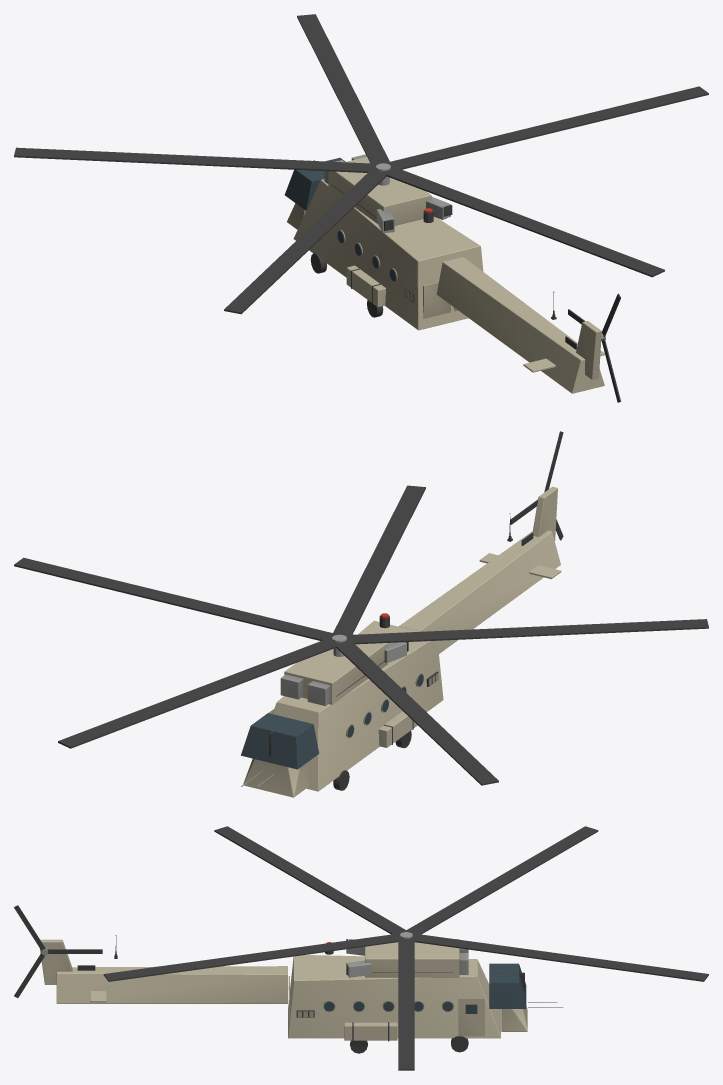
Rendered from rus_heli_mi17.glb.
The picture shows the model from 3 angles, top to bottom: view 1: azimuth 30°, elevation 25°; view 2: azimuth 150°, elevation 25°; view 3: azimuth 270°, elevation 25°; orthographic projection. The views are drawn at different scales.
Parts seen in each view (by area): view 1: body, rotor, trotor; view 2: body, rotor; view 3: body, rotor, trotor.
Part boxes in pixels (left/top/right/bottom): body: left=284, top=154, right=604, bottom=393; rotor: left=14, top=14, right=708, bottom=314; trotor: left=568, top=293, right=621, bottom=402; body: left=241, top=486, right=561, bottom=797; rotor: left=14, top=485, right=708, bottom=785; body: left=40, top=935, right=563, bottom=1053; rotor: left=103, top=826, right=708, bottom=1070; trotor: left=14, top=905, right=102, bottom=997.
Bounding box in the file's own units: 19.43 × 5.03 × 23.46.
